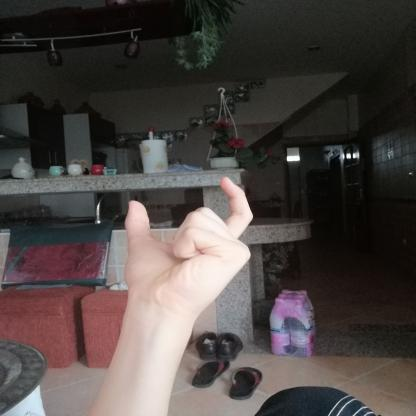NOON: (108, 166, 267, 330)
